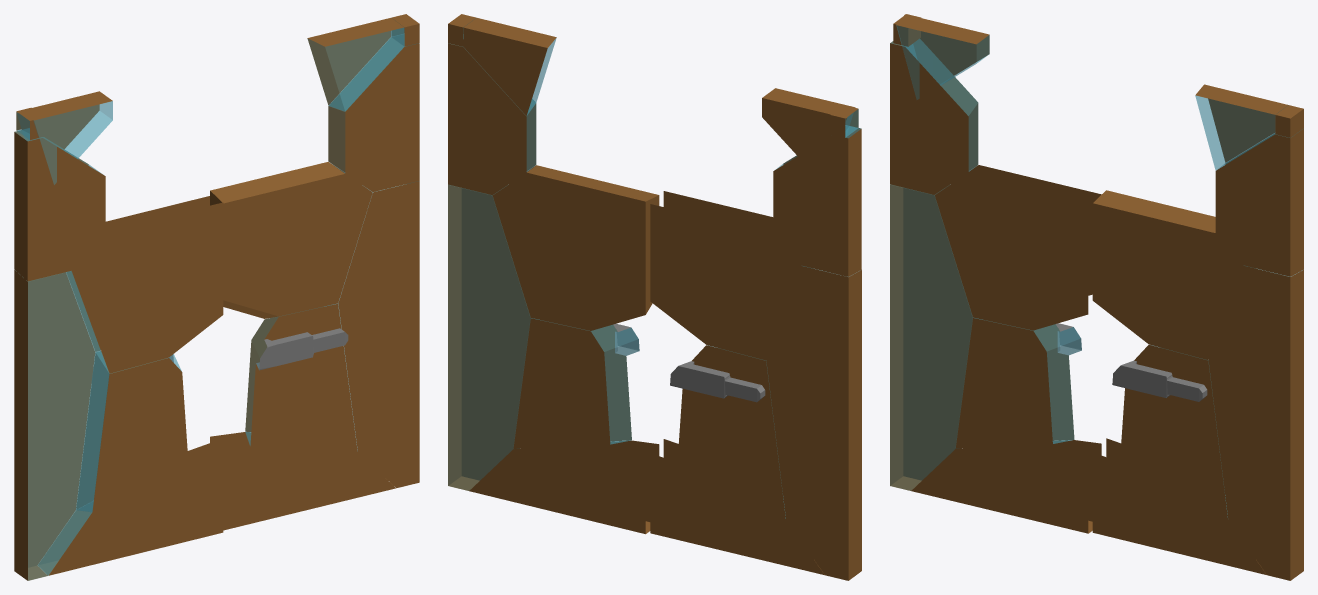
File: buro_door_kaputt.glb
3 views of the same model, side by side, from view 1: azimuth 30°, elevation 25°; view 2: azimuth 150°, elevation 25°; view 3: azimuth 330°, elevation 25° (orthographic).
Visible parts, largest first — view 1: Cube.001_cell.011, Cube.001_cell.005, Cube.001_cell.004, Cube.001_cell, Cube.001_cell.002, Cube.001_cell.013, Cube.001_cell.007, Cube.001_cell.001, Cube.001_cell.014, Cube.001_cell.009, Cube.001_cell.006, Cube.001_cell.008 (+2 smaller); view 2: Cube.001_cell.011, Cube.001_cell, Cube.001_cell.004, Cube.001_cell.005, Cube.001_cell.002, Cube.001_cell.013, Cube.001_cell.009, Cube.001_cell.014, Cube.001_cell.007, Cube.001_cell.001, Cube.001_cell.006, Cube.001_cell.008 (+2 smaller); view 3: Cube.001_cell.004, Cube.001_cell.005, Cube.001_cell.011, Cube.001_cell, Cube.001_cell.013, Cube.001_cell.002, Cube.001_cell.007, Cube.001_cell.014, Cube.001_cell.001, Cube.001_cell.009, Cube.001_cell.006, Cube.001_cell.008 (+1 smaller).
Part boxes in pixels (x1=…): Cube.001_cell.011: x1=14, y1=269, x2=109, y2=580; Cube.001_cell.005: x1=66, y1=196, x2=223, y2=373; Cube.001_cell.004: x1=333, y1=181, x2=419, y2=488; Cube.001_cell: x1=210, y1=162, x2=372, y2=318; Cube.001_cell.002: x1=245, y1=304, x2=357, y2=451; Cube.001_cell.013: x1=76, y1=351, x2=188, y2=512; Cube.001_cell.007: x1=38, y1=443, x2=223, y2=575; Cube.001_cell.001: x1=328, y1=34, x2=419, y2=191; Cube.001_cell.014: x1=14, y1=130, x2=105, y2=281; Cube.001_cell.009: x1=210, y1=432, x2=395, y2=530; Cube.001_cell.006: x1=307, y1=18, x2=404, y2=111; Cube.001_cell.008: x1=16, y1=91, x2=112, y2=184; Cube.001_cell.011: x1=766, y1=266, x2=861, y2=580; Cube.001_cell: x1=492, y1=165, x2=659, y2=330; Cube.001_cell.004: x1=448, y1=184, x2=530, y2=490; Cube.001_cell.005: x1=650, y1=191, x2=801, y2=360; Cube.001_cell.002: x1=513, y1=318, x2=639, y2=448; Cube.001_cell.013: x1=670, y1=345, x2=785, y2=519; Cube.001_cell.009: x1=469, y1=440, x2=659, y2=534; Cube.001_cell.014: x1=773, y1=125, x2=861, y2=276; Cube.001_cell.007: x1=650, y1=439, x2=824, y2=575; Cube.001_cell.001: x1=448, y1=43, x2=536, y2=195; Cube.001_cell.006: x1=463, y1=18, x2=556, y2=115; Cube.001_cell.008: x1=762, y1=88, x2=855, y2=178; Cube.001_cell.004: x1=1208, y1=265, x2=1303, y2=580; Cube.001_cell.005: x1=935, y1=165, x2=1101, y2=330; Cube.001_cell.011: x1=890, y1=184, x2=972, y2=490; Cube.001_cell: x1=1092, y1=190, x2=1243, y2=359; Cube.001_cell.013: x1=955, y1=317, x2=1081, y2=448; Cube.001_cell.002: x1=1112, y1=344, x2=1227, y2=519; Cube.001_cell.007: x1=911, y1=440, x2=1101, y2=533; Cube.001_cell.014: x1=890, y1=39, x2=978, y2=194; Cube.001_cell.001: x1=1215, y1=128, x2=1303, y2=276; Cube.001_cell.009: x1=1092, y1=438, x2=1266, y2=574; Cube.001_cell.006: x1=1195, y1=84, x2=1288, y2=169; Cube.001_cell.008: x1=896, y1=14, x2=989, y2=99.
Size of the model in its own units: 3.42 by 3.8 by 0.4138.
